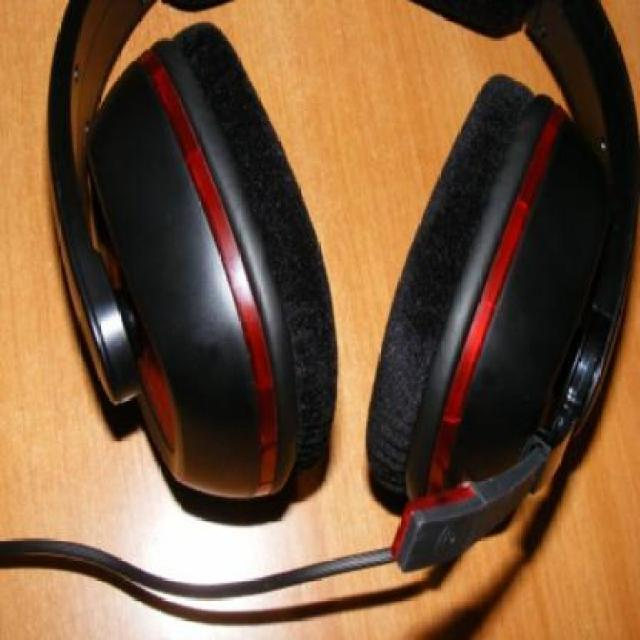earphone: (29, 0, 624, 545)
